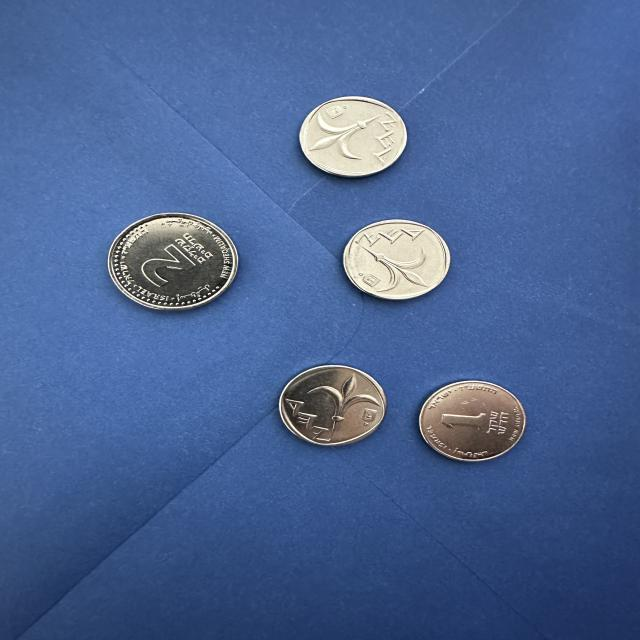1-shekel: (297, 93, 409, 179), (418, 378, 528, 464), (343, 218, 454, 301), (279, 363, 387, 447)
2-shekel: (107, 211, 236, 310)
